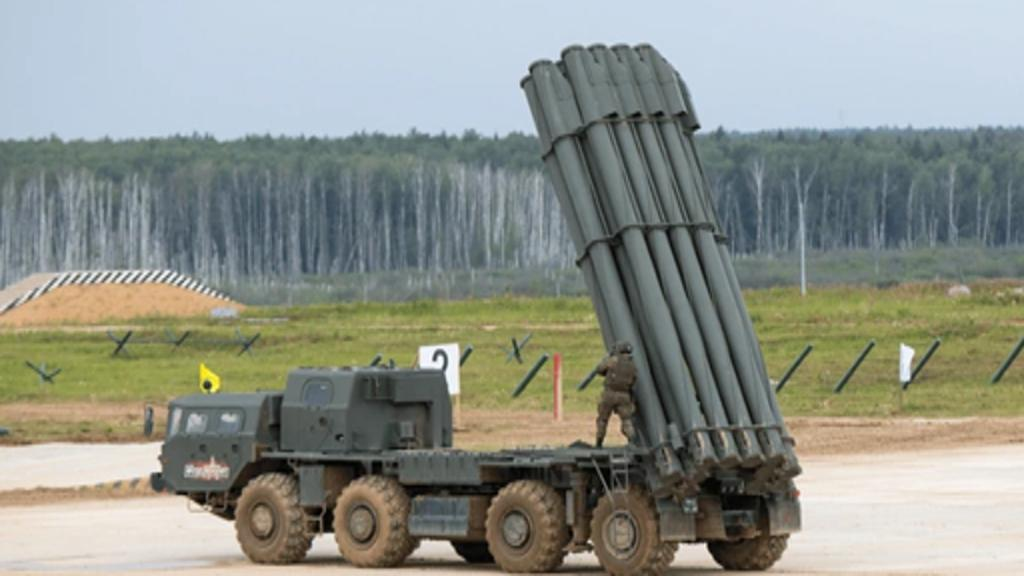MLRS: (142, 41, 804, 574)
